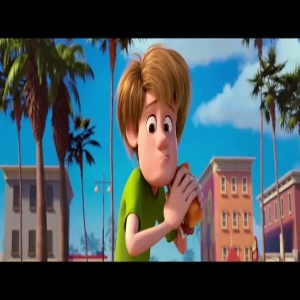Shagy: (110, 47, 197, 184)
